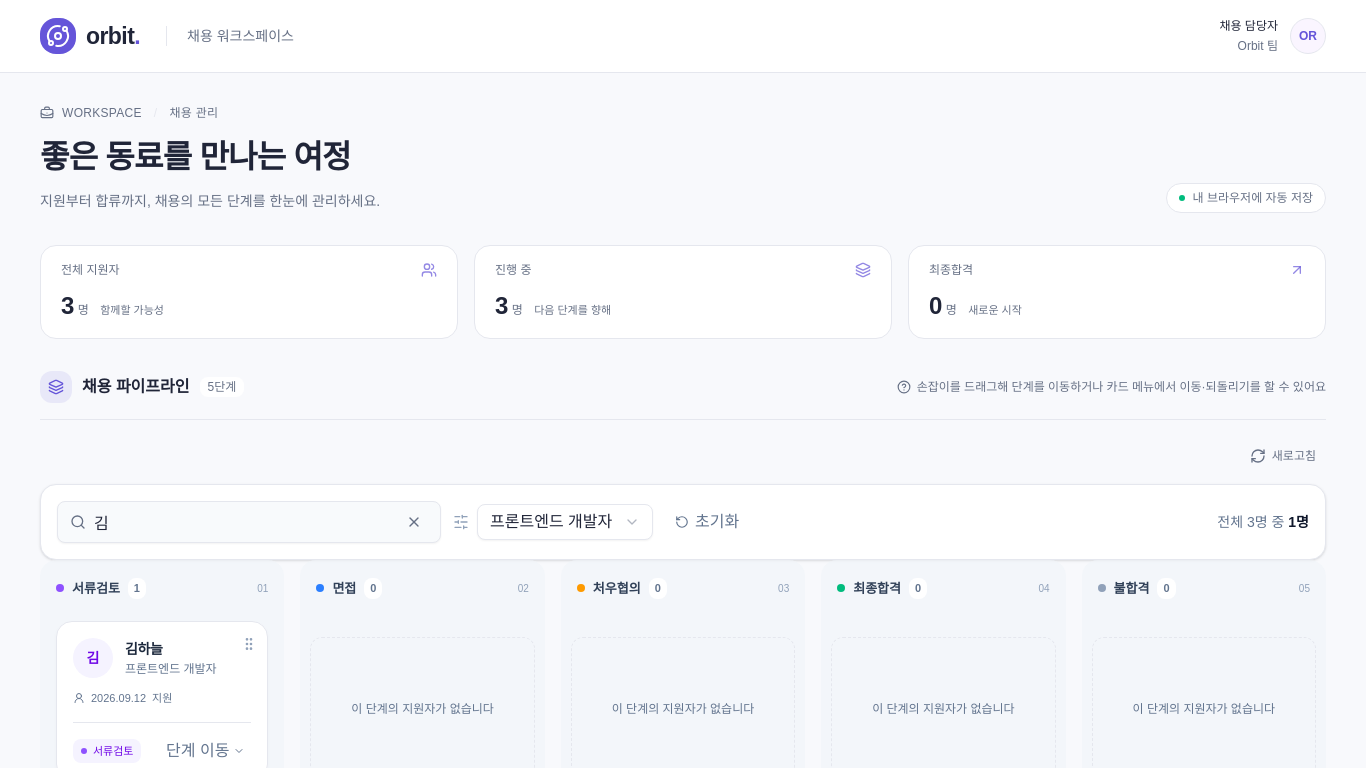
Test: CandidatesApp acceptance › clears only the name filter by keyboard, keeps job and persists the change without refetching
Expected: the button with aria-label "김하늘 지원자 상세 보기" is shown, [57,622,267,722]
Click the search field at (243, 522), box [94,502,392,542]
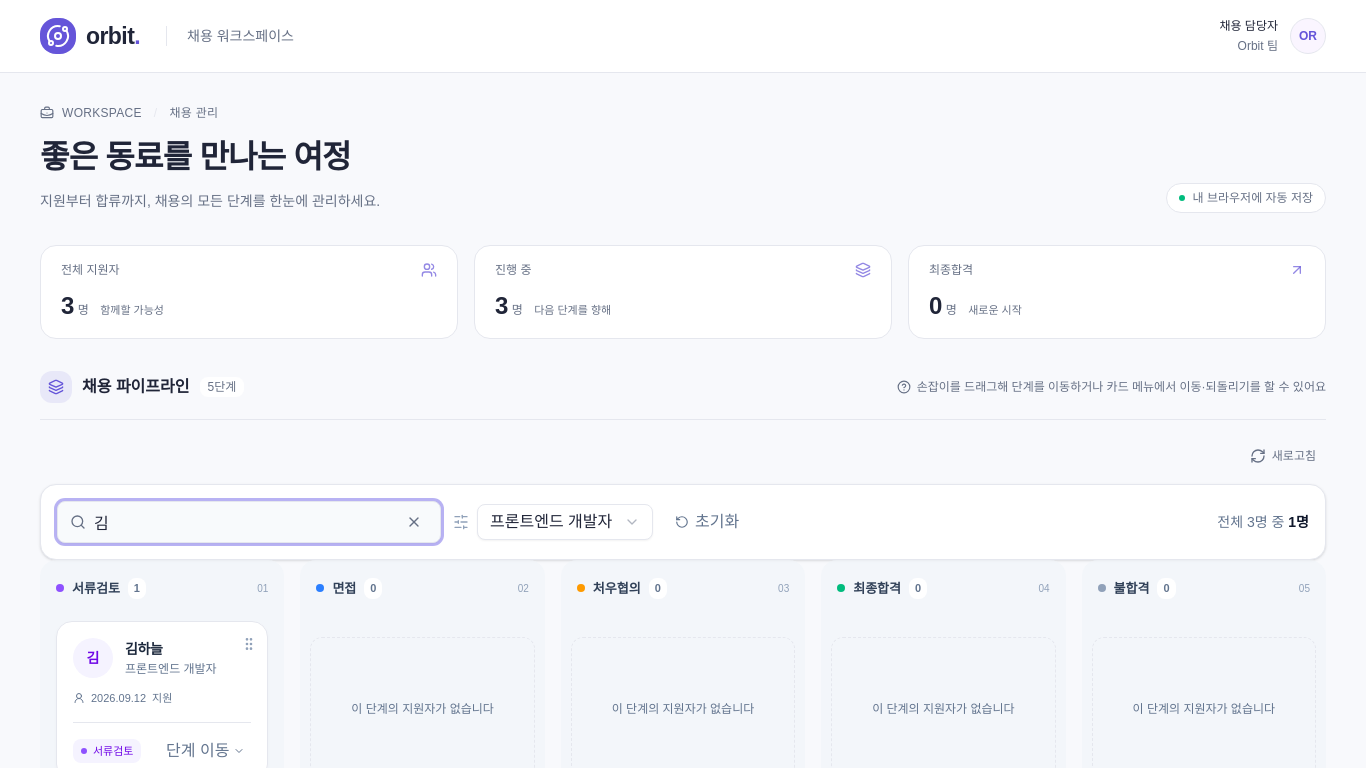
Press Tab
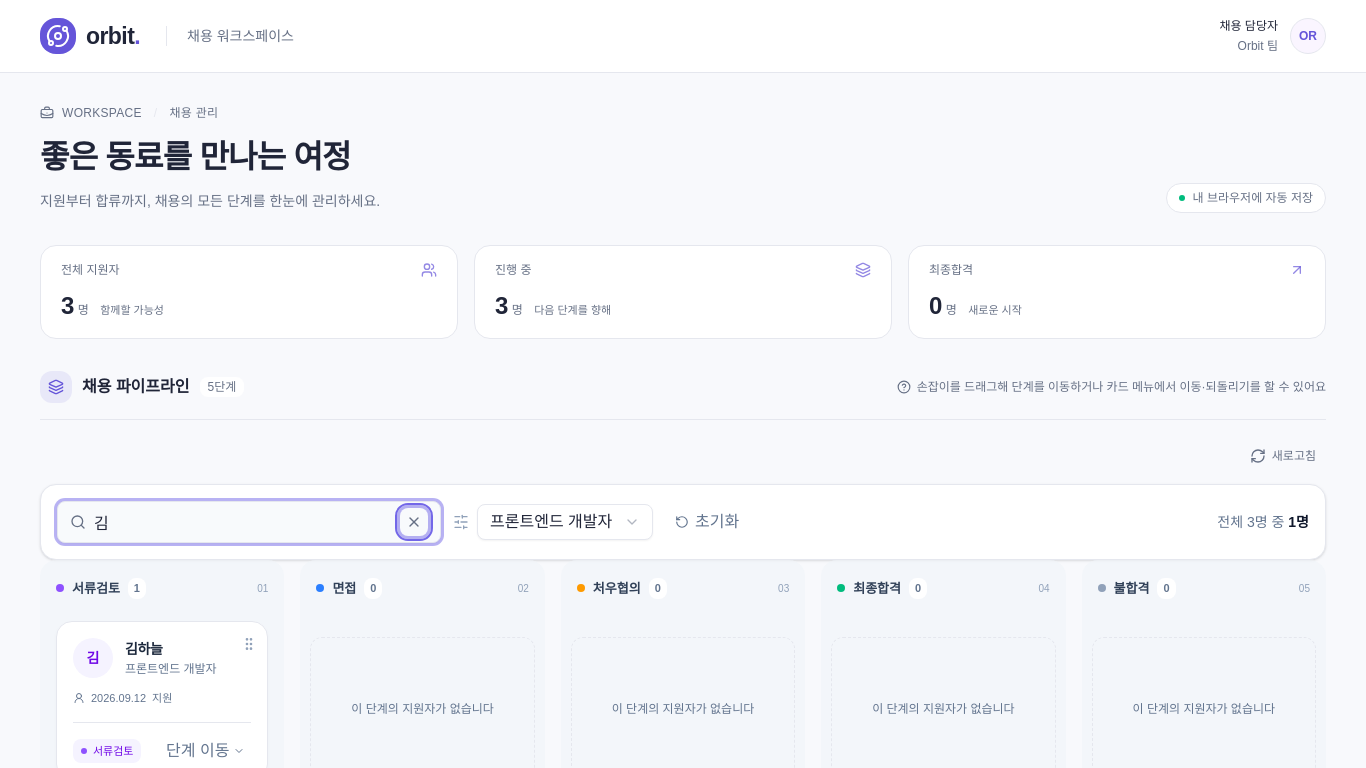
Press Enter
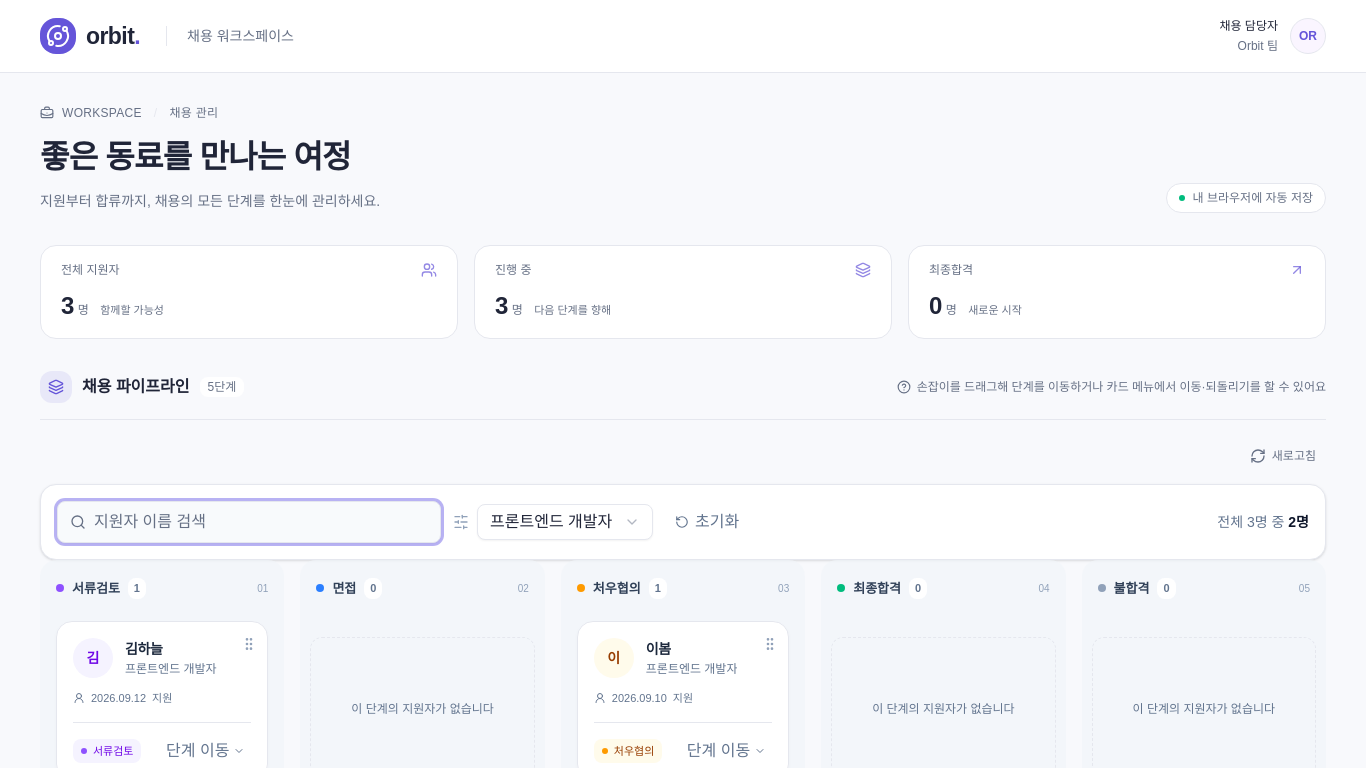
Now the search field is empty, box [94,502,428,542]
Now the button with aria-label "이봄 지원자 상세 보기" is shown, box [578,622,788,722]
Now the message named "지원자 검색 결과" reads "전체 3명 중 2명", box [1217,512,1309,532]
